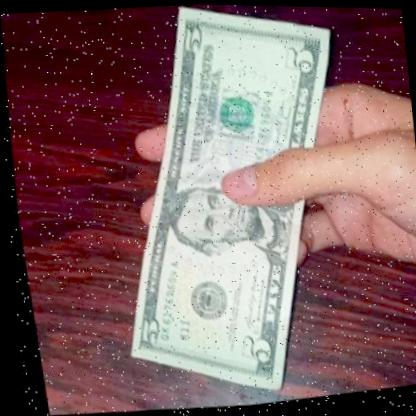dollar_front: (75, 1, 383, 416)
